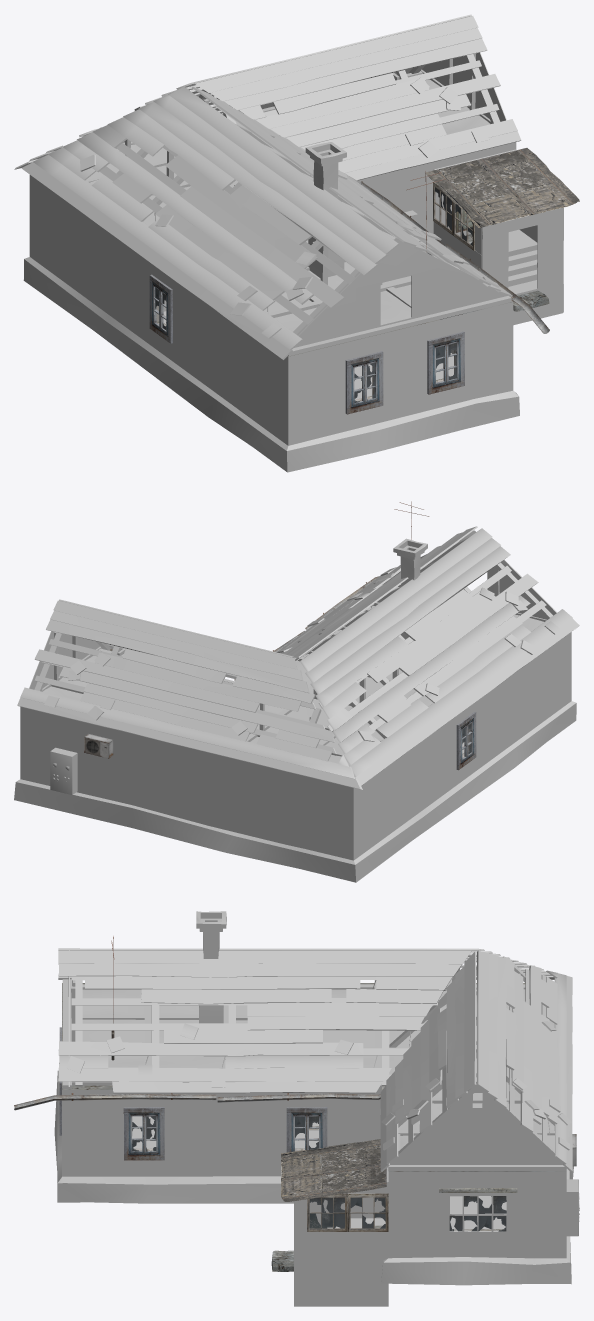
The model's file is Houses_Ready_01_Form2.FBX.
The picture shows the model from 3 angles, top to bottom: view 1: azimuth 30°, elevation 25°; view 2: azimuth 150°, elevation 25°; view 3: azimuth 270°, elevation 25°; orthographic projection. The views are drawn at different scales.
Visible parts, largest first — view 1: Roof_05_Form2, Corps_02_1, Attic_01_Form2, Porch_01, Foundation_02_2, Windows_07 (×2), Chimney_02, Windows_07_2, Drain_02, Windows_Porch_04; view 2: Roof_05_Form2, Corps_02_1, Foundation_02_2, Attic_01_Form2, Electrical_Box_01, Chimney_02, Windows_07, Air_01; view 3: Roof_05_Form2, Corps_02_1, Attic_01_Form2, Porch_01, Foundation_02_2, Drain_02, Windows_07_2, Chimney_02, Windows_Big_04, Windows_Porch_04, Windows_07, Electrical_Box_01.
Boxes of the visible parts, bbox=[...] form: Roof_05_Form2: bbox=[14, 14, 521, 359]; Corps_02_1: bbox=[29, 142, 516, 445]; Attic_01_Form2: bbox=[86, 52, 511, 356]; Porch_01: bbox=[425, 148, 579, 325]; Foundation_02_2: bbox=[23, 257, 519, 472]; Windows_07 (×2): bbox=[149, 274, 464, 394]; Chimney_02: bbox=[305, 142, 346, 278]; Windows_07_2: bbox=[345, 351, 383, 414]; Drain_02: bbox=[359, 181, 549, 333]; Windows_Porch_04: bbox=[433, 181, 474, 250]; Roof_05_Form2: bbox=[17, 526, 579, 789]; Corps_02_1: bbox=[20, 632, 571, 860]; Foundation_02_2: bbox=[14, 701, 576, 882]; Attic_01_Form2: bbox=[29, 530, 557, 776]; Electrical_Box_01: bbox=[50, 747, 77, 794]; Chimney_02: bbox=[393, 538, 427, 639]; Windows_07: bbox=[456, 712, 476, 770]; Air_01: bbox=[84, 734, 113, 758]; Roof_05_Form2: bbox=[58, 948, 572, 1172]; Corps_02_1: bbox=[62, 983, 566, 1258]; Attic_01_Form2: bbox=[62, 949, 566, 1170]; Porch_01: bbox=[281, 1139, 388, 1306]; Foundation_02_2: bbox=[54, 1070, 573, 1285]; Drain_02: bbox=[14, 1093, 380, 1110]; Windows_07_2: bbox=[123, 1107, 164, 1160]; Chimney_02: bbox=[196, 911, 226, 1023]; Windows_Big_04: bbox=[445, 1193, 511, 1235]; Windows_Porch_04: bbox=[307, 1193, 388, 1231]; Windows_07: bbox=[286, 1107, 327, 1152]; Electrical_Box_01: bbox=[566, 1179, 579, 1236].
Bounding box in the file's own units: 1513 × 1810 × 917.
